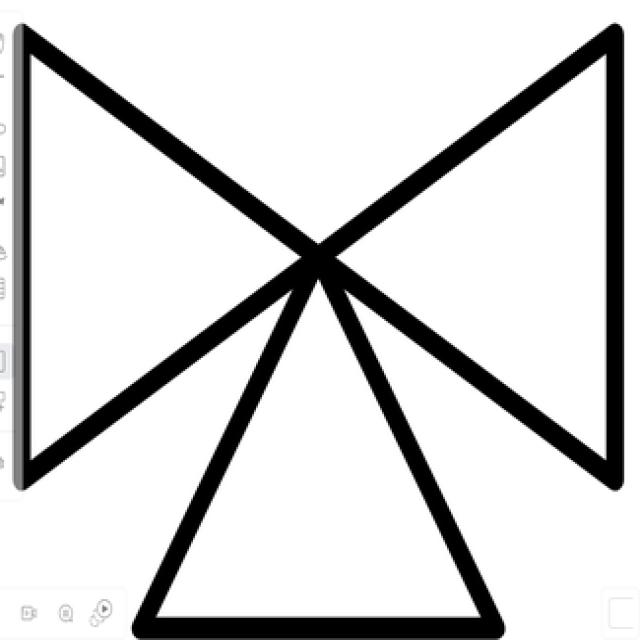3-way Valve: (317, 26, 616, 484), (20, 31, 315, 479), (139, 259, 495, 629)
